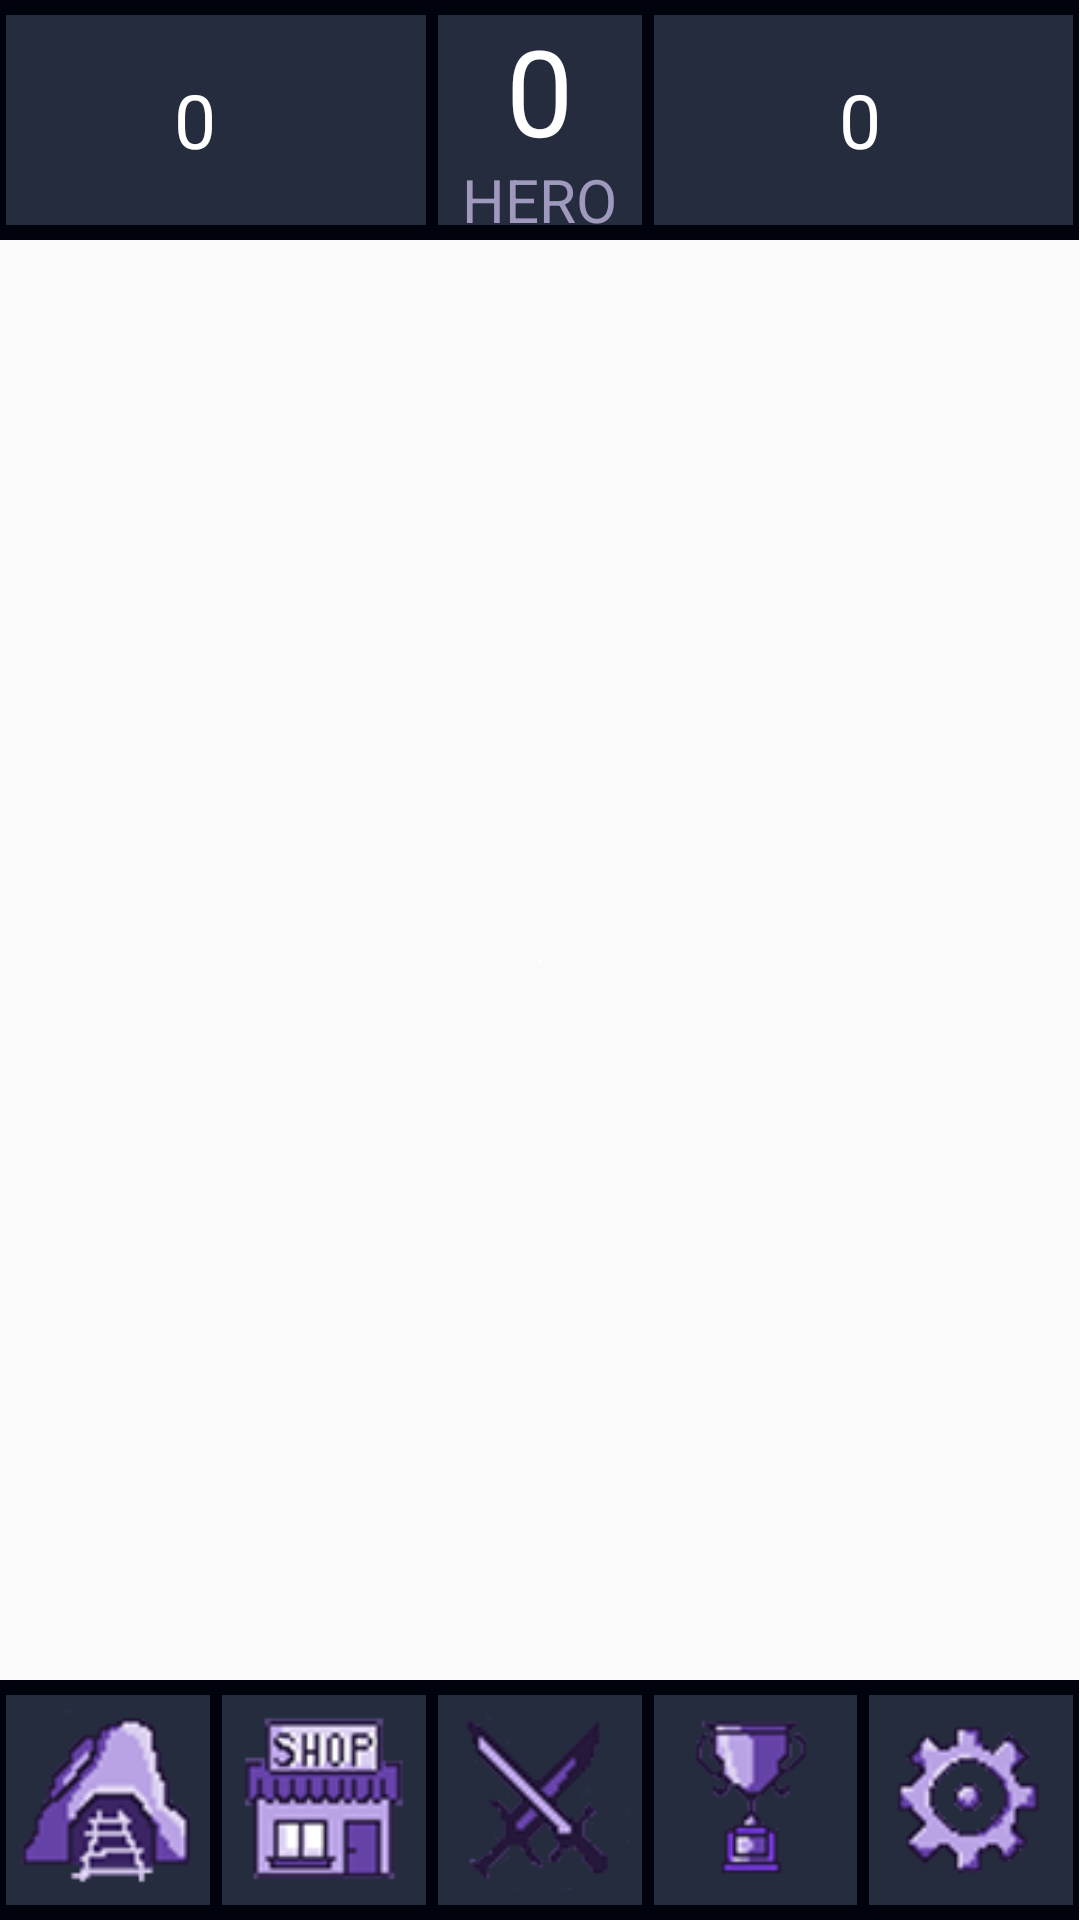

Icons on this 1080 x 1920 Android screen, each with the point to tap as [x,y]:
duels: [540,1800]
settings: [968,1799]
top: [755,1800]
